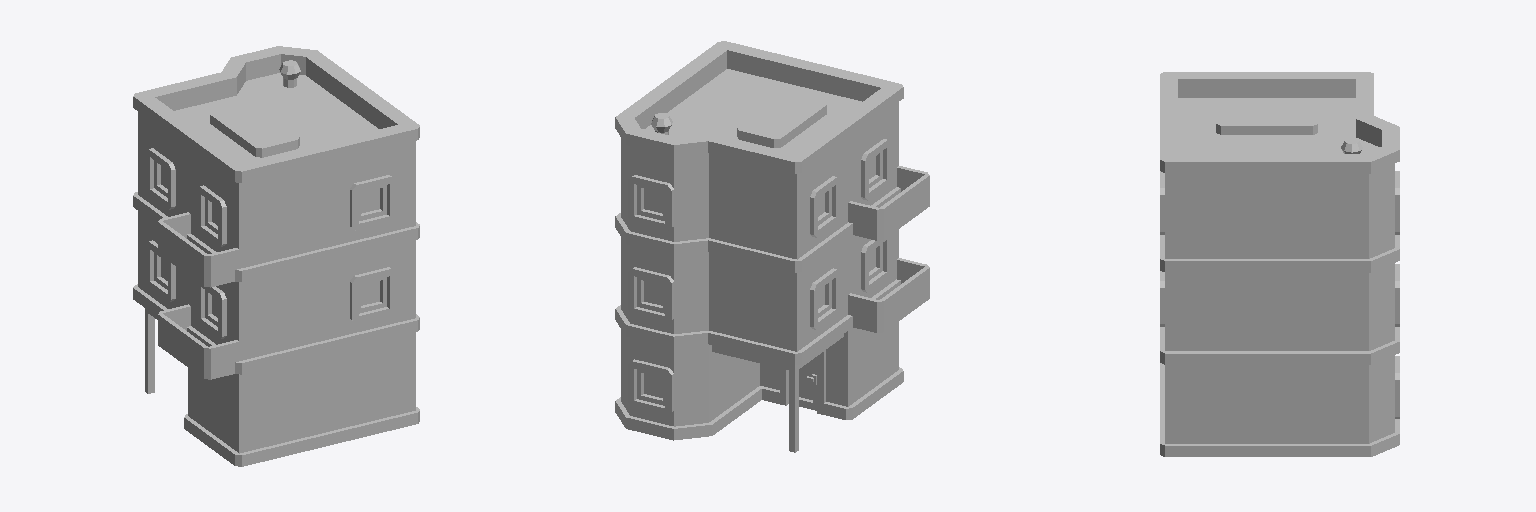
Rendered from commercial_building-b.obj.
3 views of the same model, side by side, from view 1: azimuth 30°, elevation 25°; view 2: azimuth 150°, elevation 25°; view 3: azimuth 270°, elevation 25° (orthographic).
Visible parts, largest first — view 1: building-b; view 2: building-b; view 3: building-b.
Boxes of the visible parts, <box> form: building-b: <box>133,46,419,466</box>; building-b: <box>615,41,929,452</box>; building-b: <box>1160,72,1399,456</box>.
Size of the model in its own units: 0.97 by 1.29 by 0.94.